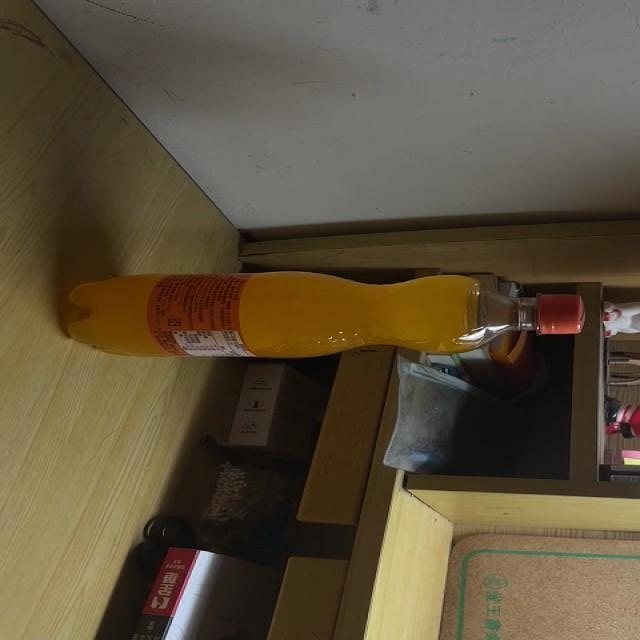Fanta: (67, 270, 586, 358)
